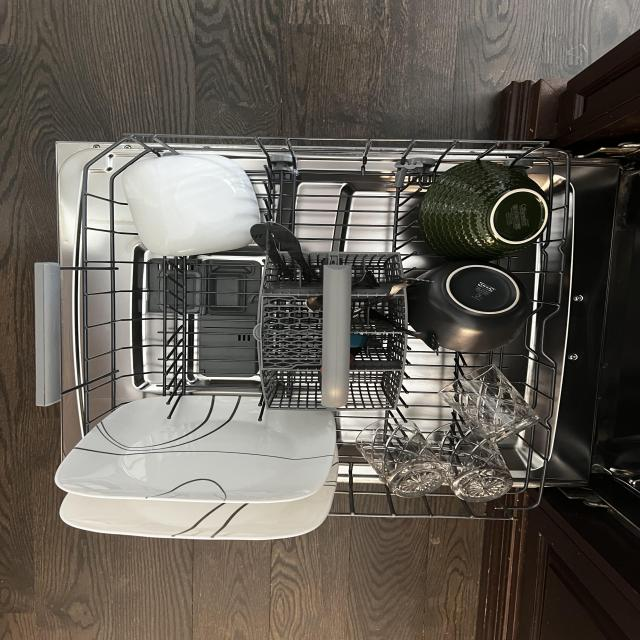Bowl: (122, 154, 266, 258), (419, 159, 553, 263), (409, 262, 528, 352)
Fork: (363, 306, 440, 355), (351, 276, 435, 320), (352, 270, 384, 291)
Glass: (438, 364, 539, 445), (426, 416, 516, 505), (353, 416, 450, 498)
Knife: (262, 219, 318, 284), (249, 221, 294, 280), (350, 332, 384, 350)
Plate: (58, 394, 336, 504)
